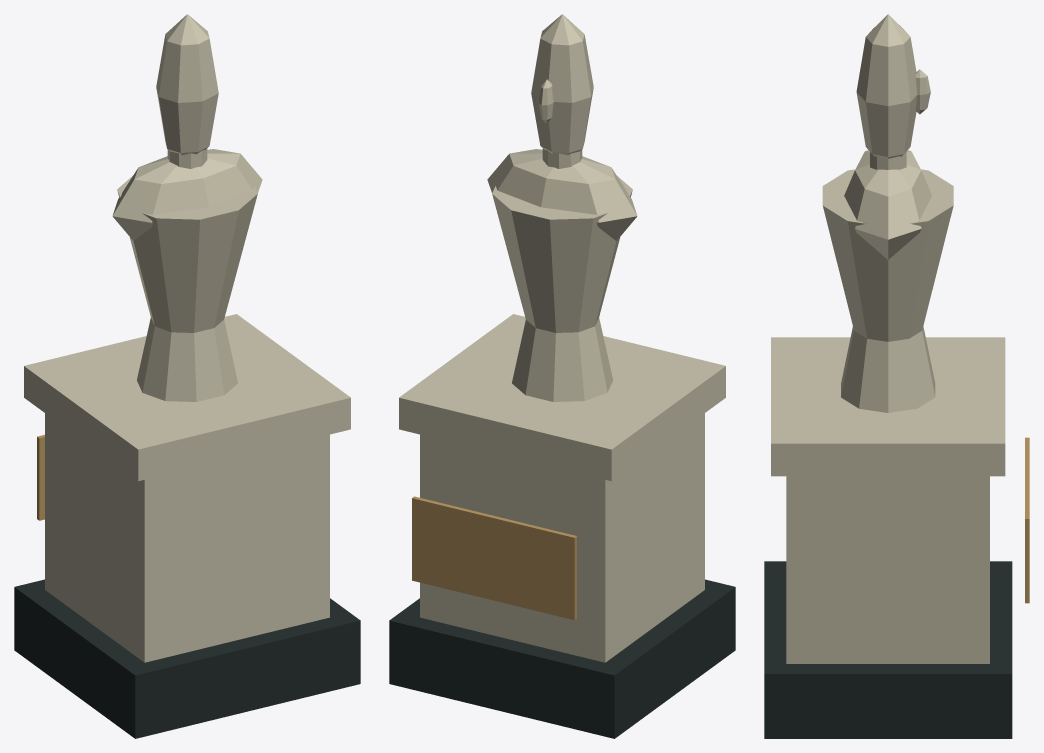
Rendered from LP_ArtGallery_BustSW.fbx.
3 views of the same model, side by side, from view 1: azimuth 30°, elevation 25°; view 2: azimuth 150°, elevation 25°; view 3: azimuth 270°, elevation 25° (orthographic). The views are drawn at different scales.
Visible parts, largest first — view 1: M_Central_Limestone, Charcoal, AgedBrass; view 2: M_Central_Limestone, Charcoal, AgedBrass; view 3: M_Central_Limestone, Charcoal, AgedBrass.
Boxes of the visible parts, left/top/right/bottom form: M_Central_Limestone: left=24, top=14, right=350, bottom=662; Charcoal: left=14, top=579, right=360, bottom=738; AgedBrass: left=37, top=434, right=44, bottom=520; M_Central_Limestone: left=399, top=14, right=725, bottom=662; Charcoal: left=389, top=579, right=735, bottom=738; AgedBrass: left=412, top=496, right=576, bottom=620; M_Central_Limestone: left=771, top=14, right=1005, bottom=663; Charcoal: left=764, top=561, right=1012, bottom=738; AgedBrass: left=1025, top=437, right=1029, bottom=603.
Size of the model in its own units: 65 by 180 by 64.8.
